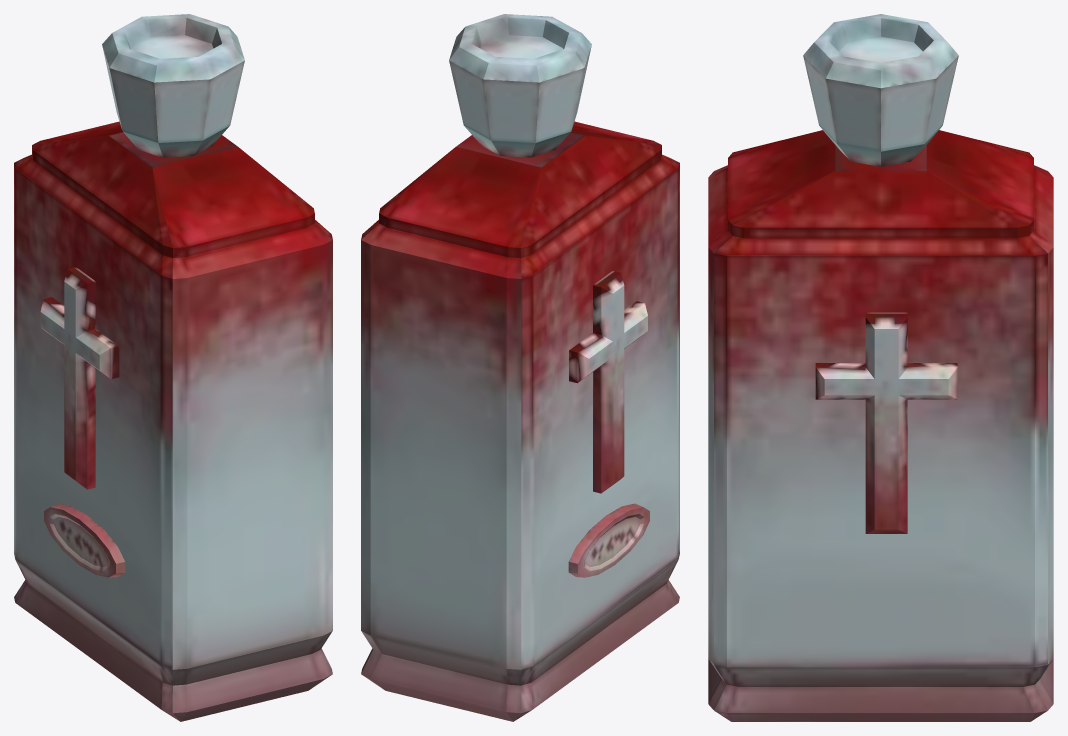
Rendered from holy-water.glb.
The picture shows the model from 3 angles, left to right: view 1: azimuth 30°, elevation 25°; view 2: azimuth 150°, elevation 25°; view 3: azimuth 270°, elevation 25°; orthographic projection. The views are drawn at different scales.
Parts seen in each view (by area): view 1: mesh_holy_water_vampire_hunter_holy_water:lambert2_0; view 2: mesh_holy_water_vampire_hunter_holy_water:lambert2_0; view 3: mesh_holy_water_vampire_hunter_holy_water:lambert2_0.
Boxes of the visible parts, left/top/right/bottom form: mesh_holy_water_vampire_hunter_holy_water:lambert2_0: left=14, top=14, right=332, bottom=721; mesh_holy_water_vampire_hunter_holy_water:lambert2_0: left=361, top=14, right=679, bottom=721; mesh_holy_water_vampire_hunter_holy_water:lambert2_0: left=708, top=14, right=1053, bottom=721.
Bounding box in the file's own units: 0.1484 × 0.4335 × 0.209.
Materials: 1 (1 with a texture image).
